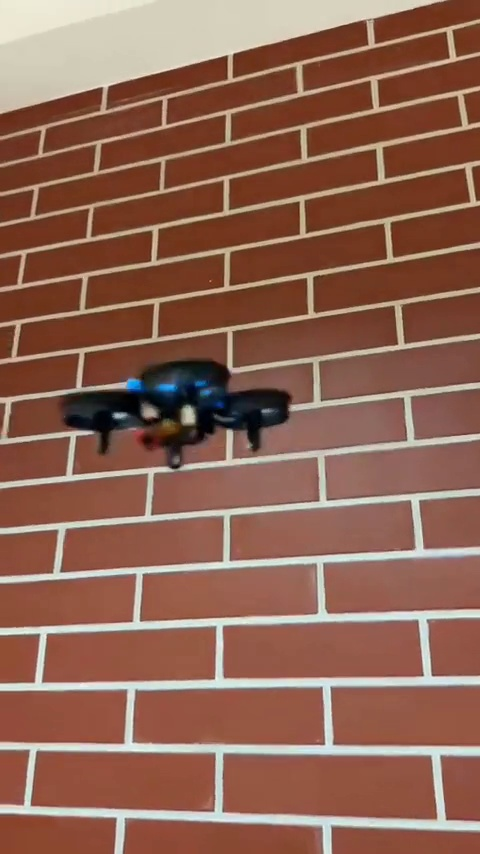drone: (50, 359, 285, 467)
